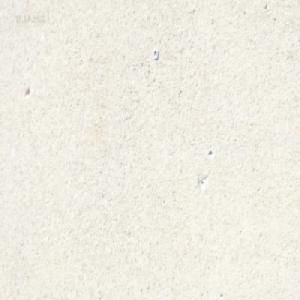Washer: (152, 48, 158, 59)
